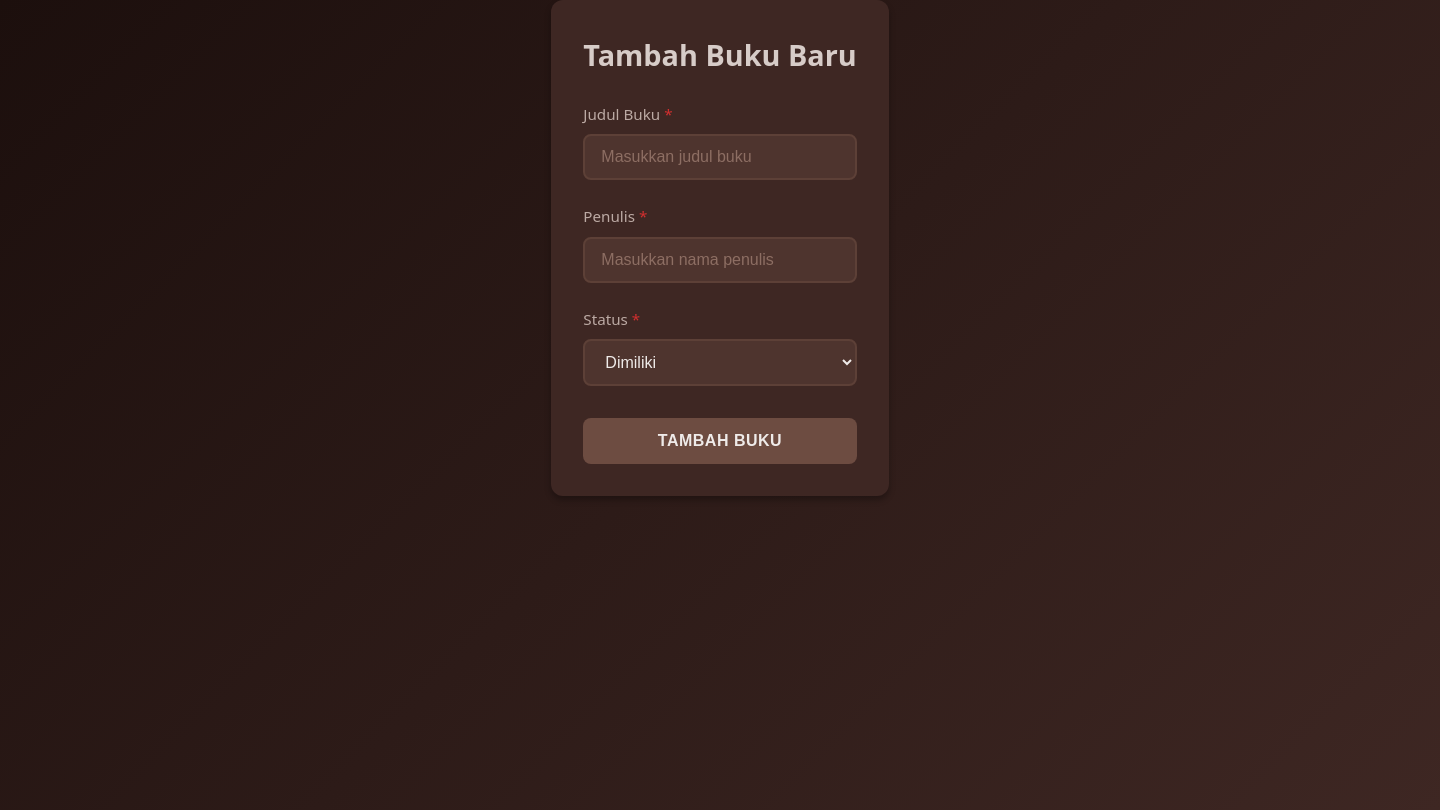
BookForm Component › clears validation errors when user types
Trigger validation error
Click the button "Tambah Buku": (720, 441) [583,418,857,464]
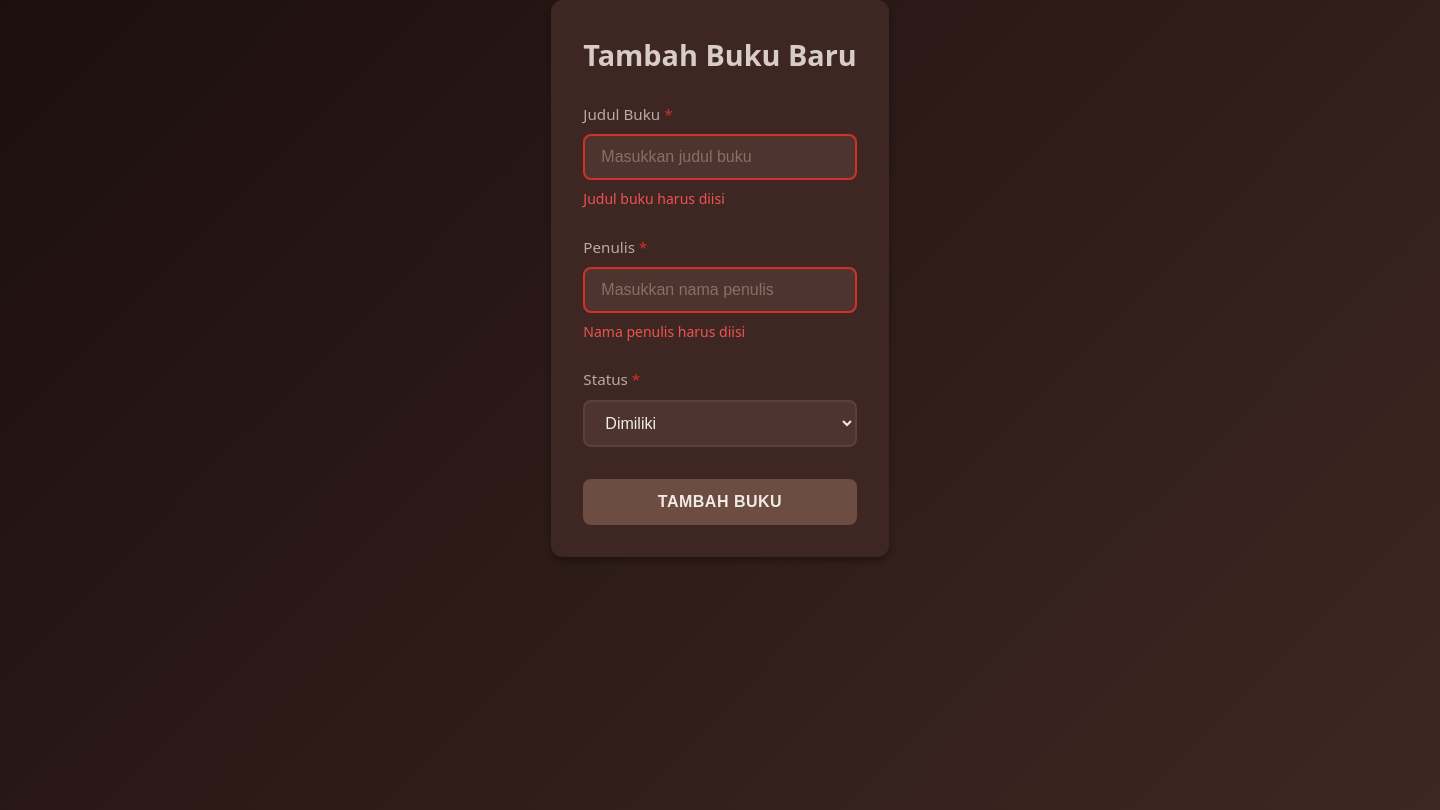
Expected: the text "Judul buku harus diisi" is shown, [583,189,725,208]
Type to clear error
In the field labelled "Judul Buku *": (720, 157) [583,134,857,180], type "New Book"
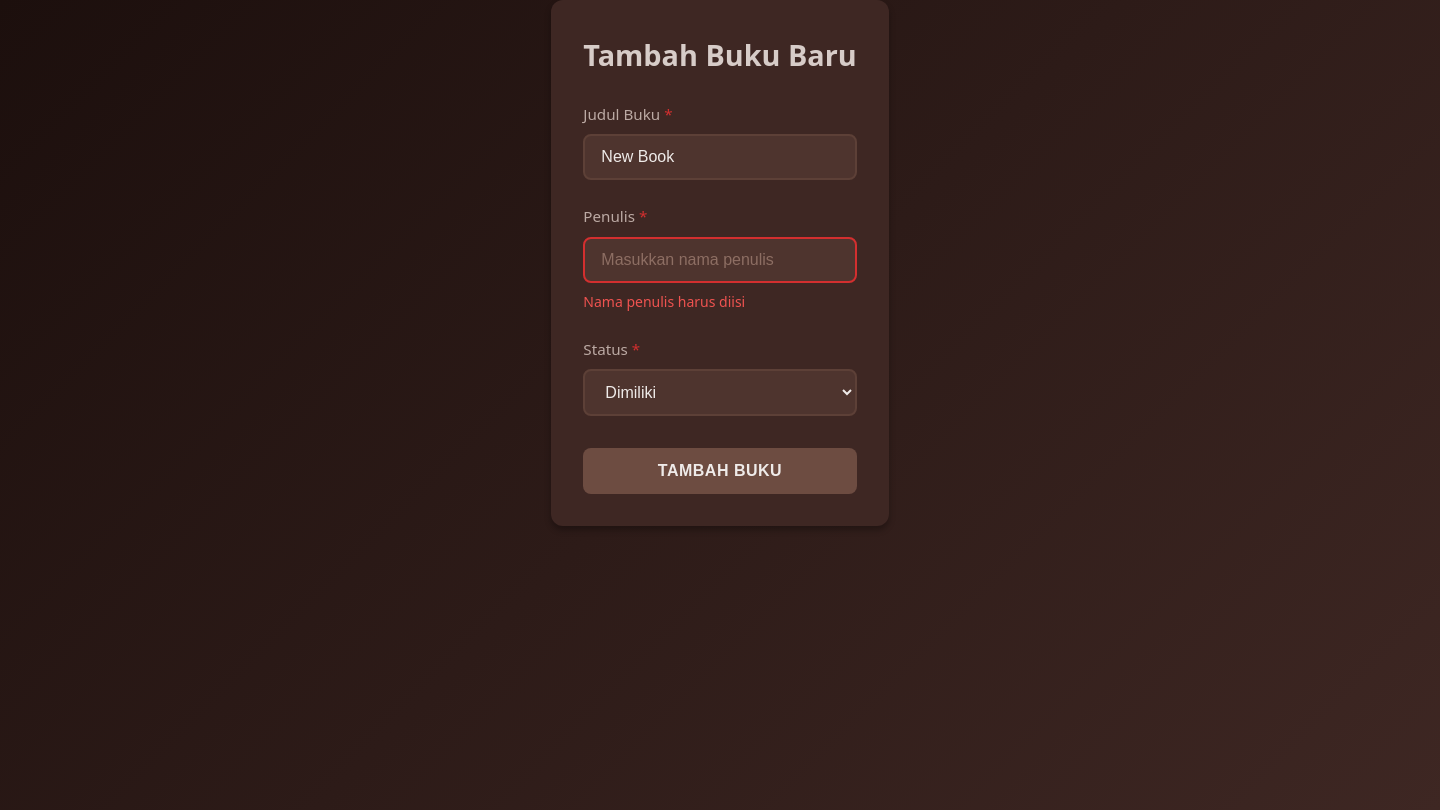
Expected: the text "Judul buku harus diisi" is gone
